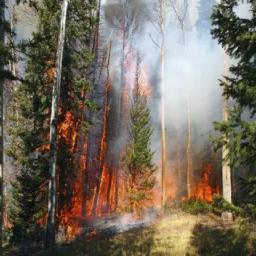Low smoke: (102, 25, 240, 127)
Medium fire: (38, 110, 223, 239)
